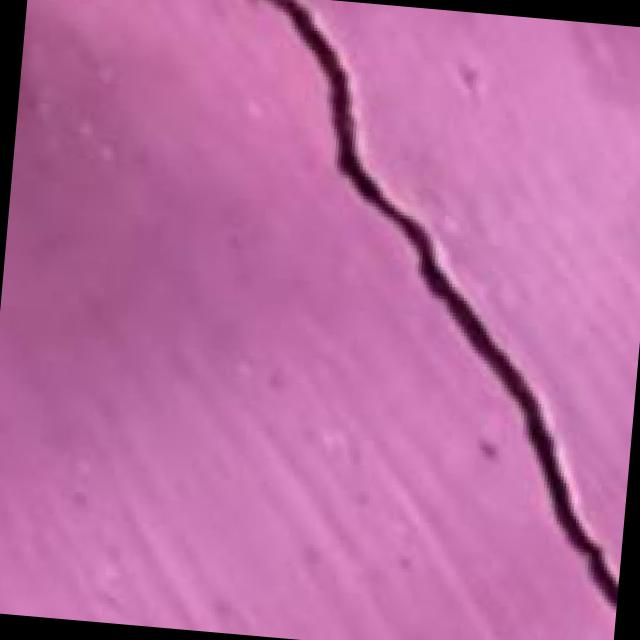crack: (195, 1, 640, 615)
